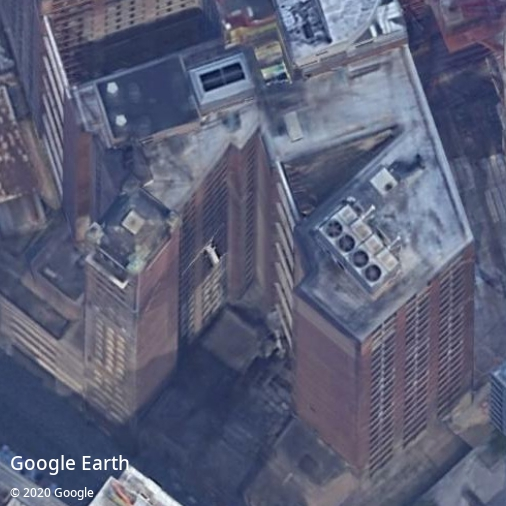Vent: (325, 220, 343, 238), (338, 234, 355, 252), (351, 249, 368, 267), (364, 263, 381, 281)
